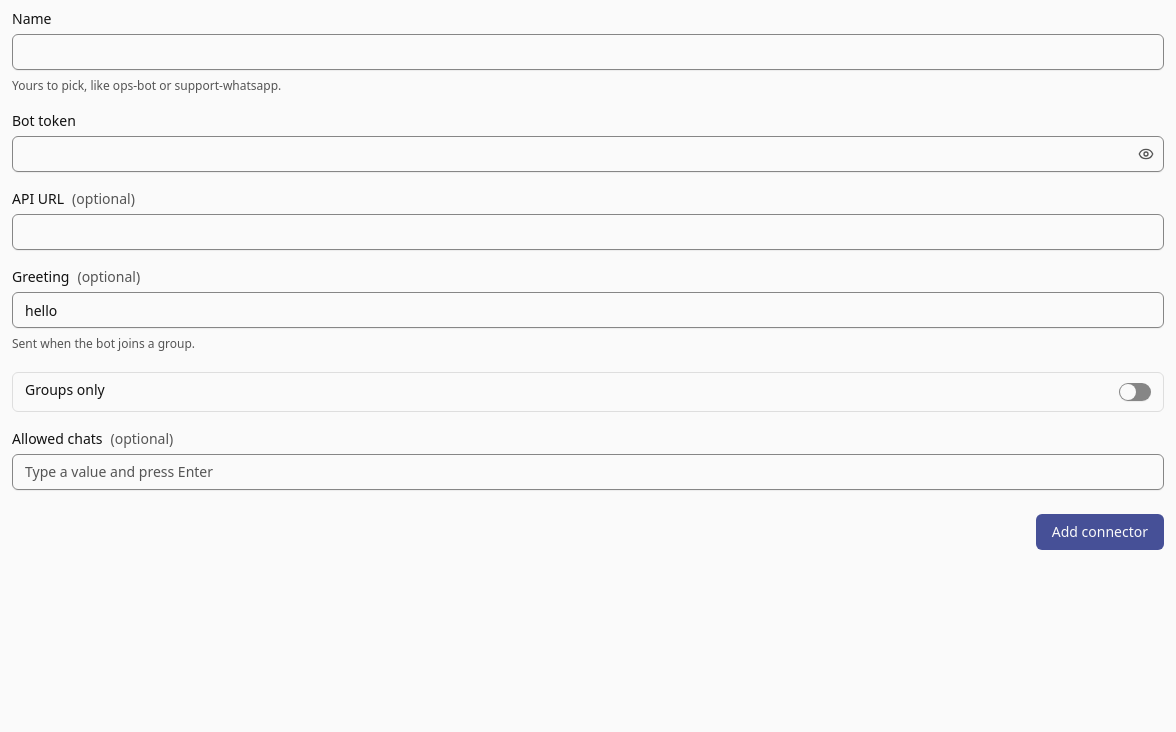
Scenario: schema form (UI-16) › shows required errors without submitting
Click the button "Add connector" at (1100, 532), box [1036,514,1164,550]
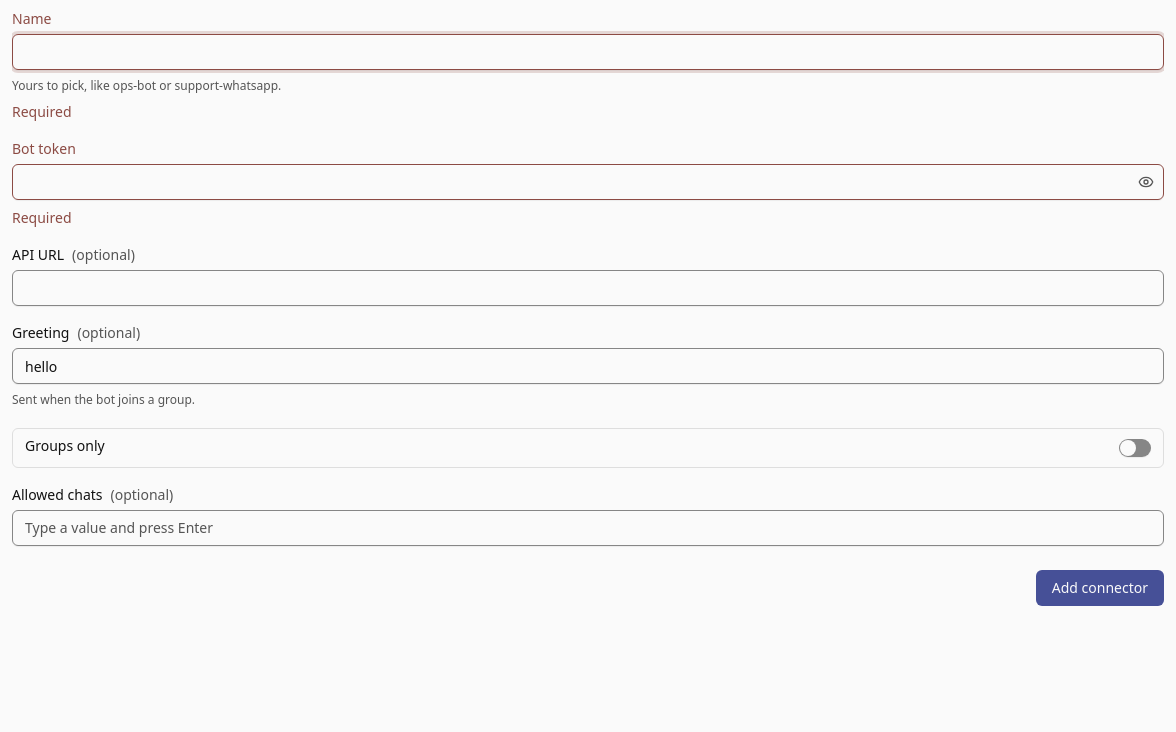
Result: the text "Required" is shown 2 times at [12,102,72,121]; [12,208,72,227]
